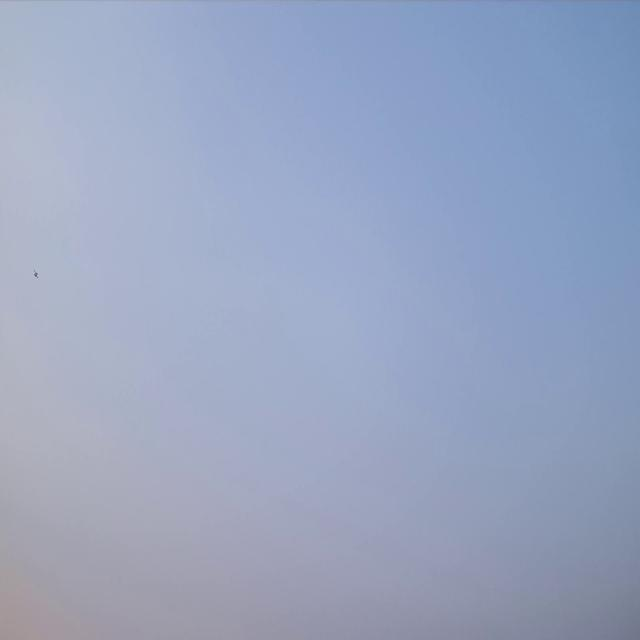UAV: (33, 269, 39, 279)
